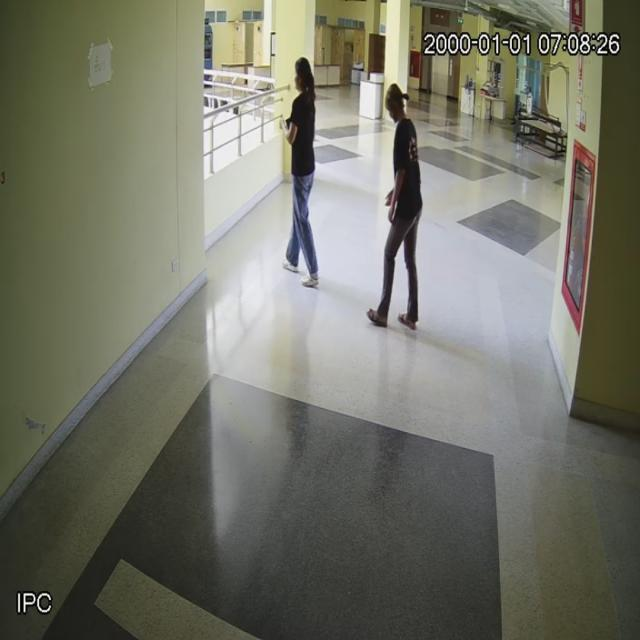normal: (369, 75, 423, 341), (281, 50, 319, 292)
